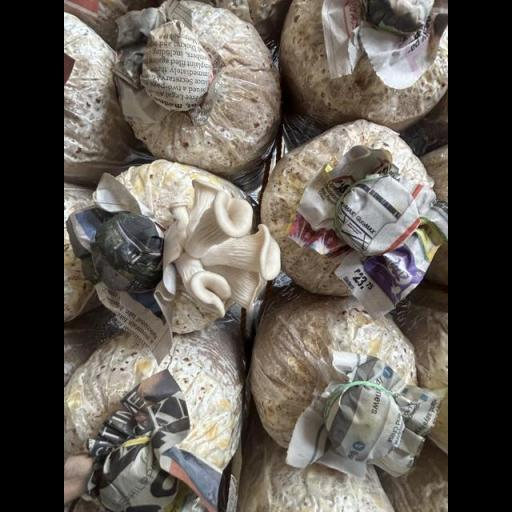White Oyster Mushroom: (142, 173, 292, 330)
